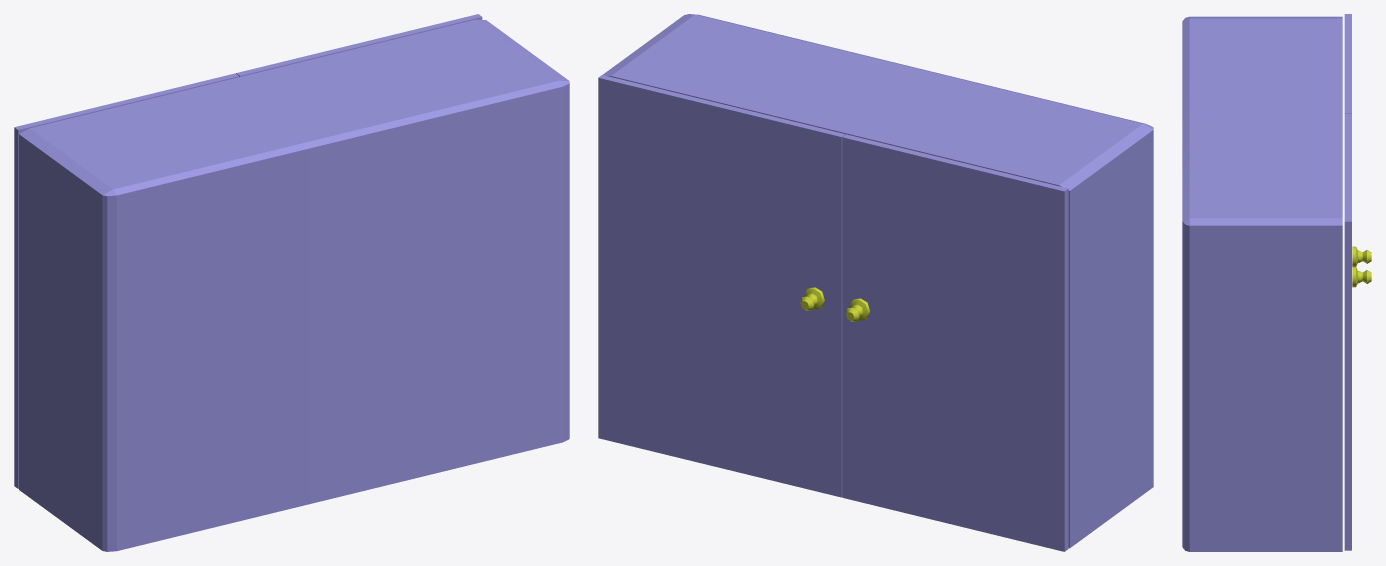
File: Prop_closet4.FBX
3 views of the same model, side by side, from view 1: azimuth 30°, elevation 25°; view 2: azimuth 150°, elevation 25°; view 3: azimuth 270°, elevation 25° (orthographic). The views are drawn at different scales.
Parts seen in each view (by area): view 1: Prop_closet015, Prop_closet013, Prop_closet014; view 2: Prop_closet014, Prop_closet013, Prop_closet015; view 3: Prop_closet015, Prop_closet014, Prop_closet013, ModuleE_doorhandlep_062, ModuleE_doorhandlep_061.
Part boxes in pixels (<box>): Prop_closet015: <box>19,19,569,551</box>; Prop_closet013: <box>14,73,239,488</box>; Prop_closet014: <box>236,14,482,76</box>; Prop_closet014: <box>598,75,845,497</box>; Prop_closet013: <box>842,134,1068,551</box>; Prop_closet015: <box>603,14,1153,548</box>; Prop_closet015: <box>1182,16,1342,551</box>; Prop_closet014: <box>1344,113,1351,550</box>; Prop_closet013: <box>1344,14,1351,113</box>; ModuleE_doorhandlep_062: <box>1352,266,1371,287</box>; ModuleE_doorhandlep_061: <box>1352,246,1371,266</box>.
Bounding box in the file's own units: 51.37 × 19.65 × 37.68.
